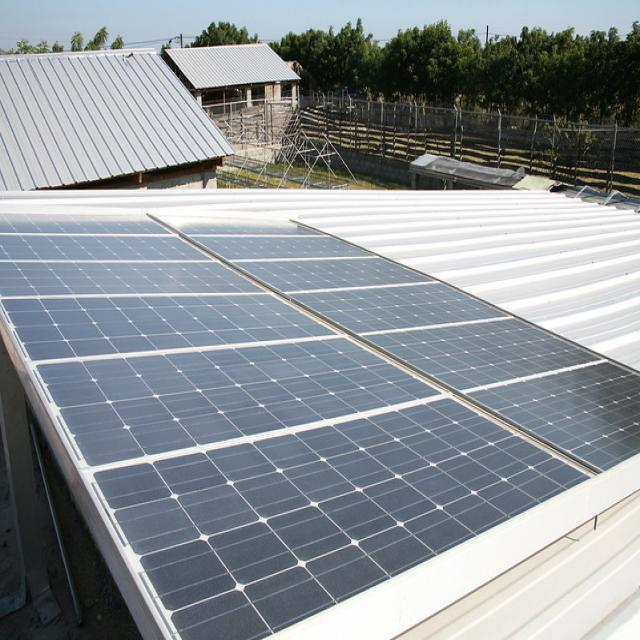no faulty: (0, 222, 640, 640)
